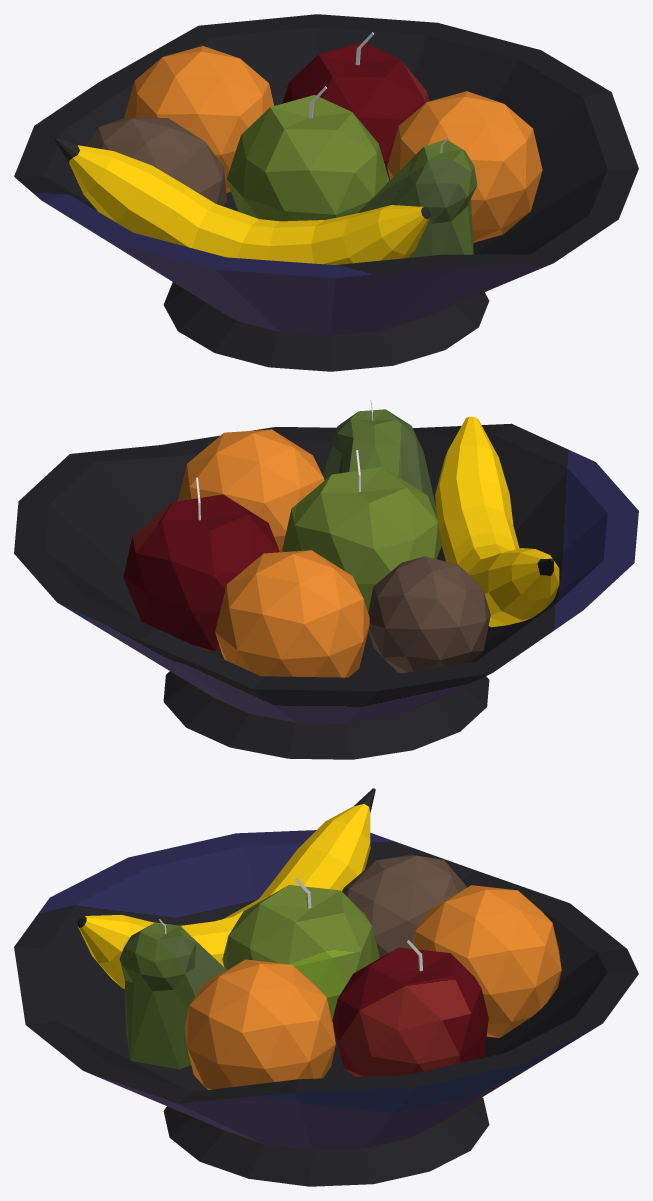
Rendered from Accesories_Fruit_Bowl.glb.
3 views of the same model, one above another, from view 1: azimuth 30°, elevation 25°; view 2: azimuth 150°, elevation 25°; view 3: azimuth 270°, elevation 25° (orthographic).
Parts seen in each view (by area): view 1: Accesories_Fruit_Bowl; view 2: Accesories_Fruit_Bowl; view 3: Accesories_Fruit_Bowl.
Boxes of the visible parts, x1,y1,x2,y2 form: Accesories_Fruit_Bowl: [14, 14, 638, 371]; Accesories_Fruit_Bowl: [14, 400, 638, 759]; Accesories_Fruit_Bowl: [14, 788, 638, 1186].
Bounding box in the file's own units: 0.5031 × 0.2062 × 0.5031.
Materials: 1 (1 with a texture image).
